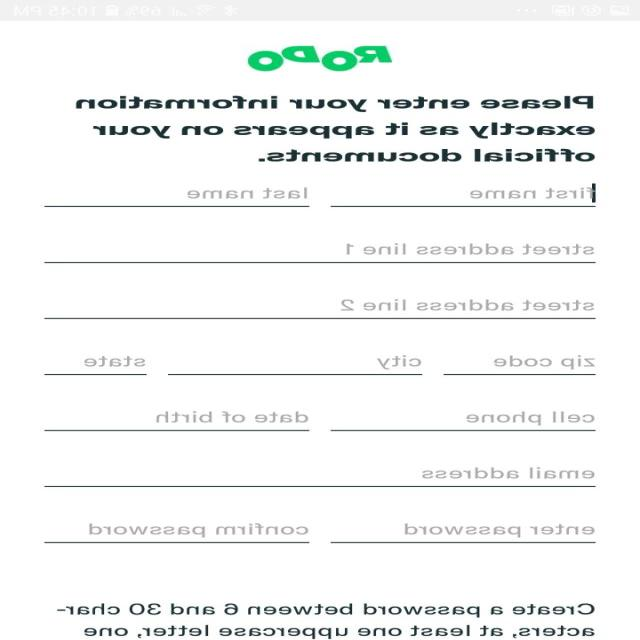EditText: (44, 298, 596, 320), (44, 466, 596, 487), (44, 243, 596, 263), (330, 183, 596, 207), (44, 522, 310, 544), (330, 522, 596, 544), (44, 410, 310, 431), (168, 354, 423, 375), (330, 411, 596, 431), (44, 187, 310, 207), (442, 354, 596, 375), (44, 356, 148, 375)
Image: (248, 46, 393, 72)
Text: (77, 95, 596, 162), (57, 602, 596, 638), (340, 298, 594, 311), (346, 243, 594, 255), (404, 523, 596, 537), (422, 466, 596, 478), (156, 410, 310, 423), (466, 411, 594, 425), (470, 186, 596, 198), (188, 186, 308, 198), (494, 355, 596, 369), (377, 354, 422, 370), (86, 356, 148, 366)
